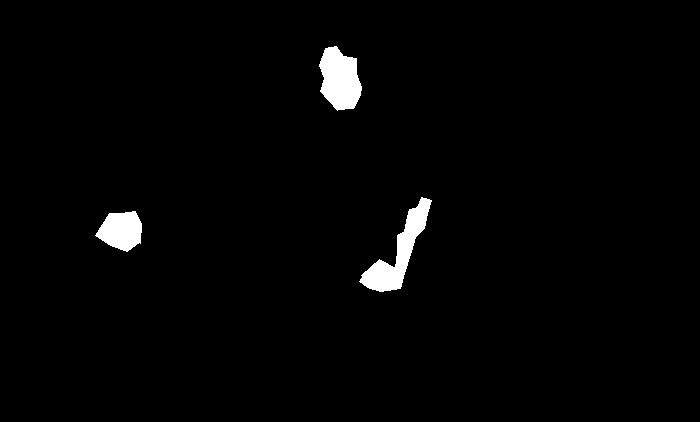Fire: (68, 109, 200, 217)
